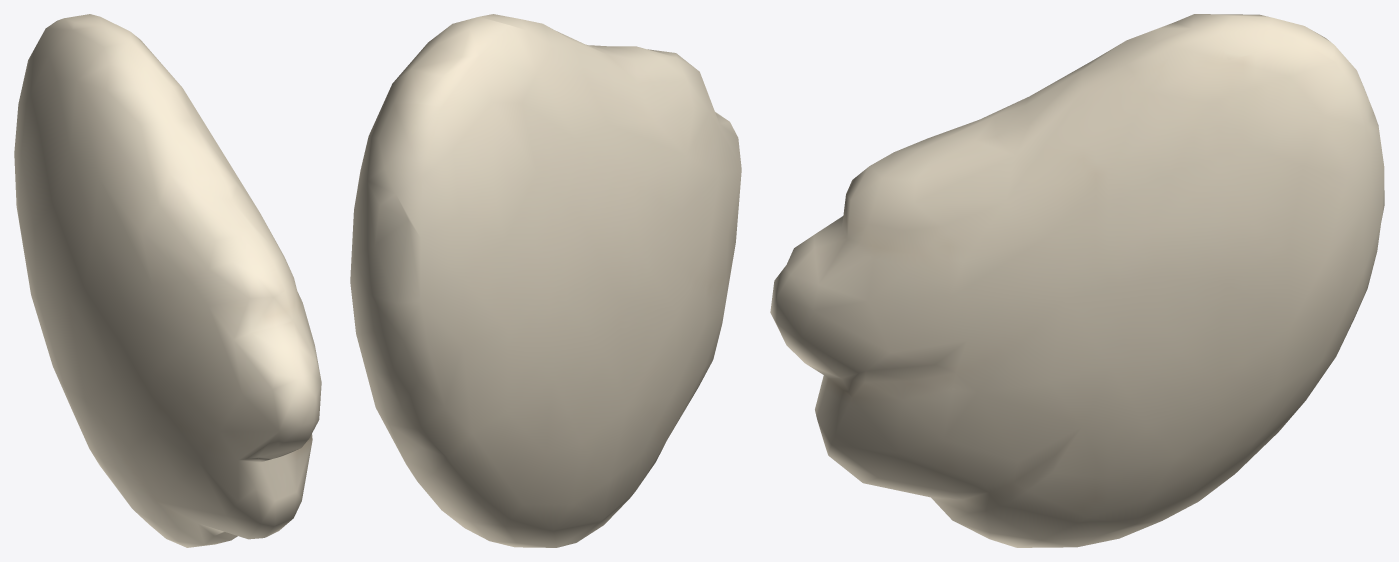
Rendered from studio.glb.
The picture shows the model from 3 angles, left to right: view 1: azimuth 30°, elevation 25°; view 2: azimuth 150°, elevation 25°; view 3: azimuth 270°, elevation 25°; orthographic projection. The views are drawn at different scales.
Bounding box in the file's own units: 0.377 × 0.9996 × 1.06.
1 material, 1 textured.
